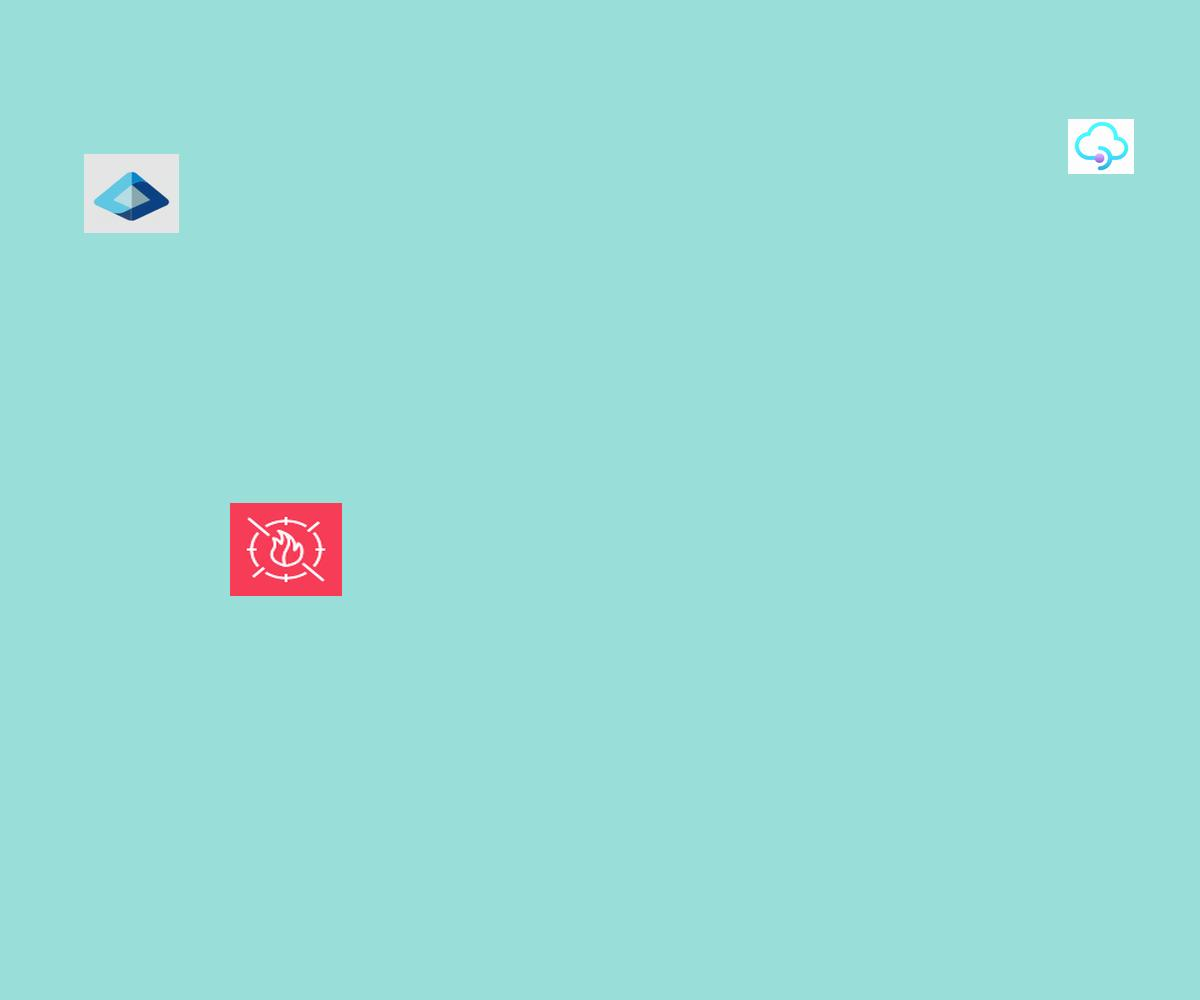AWS-WAF: (230, 503, 342, 596)
Azure_api_gateway: (1068, 119, 1134, 174)
Azure_microsoft_entra: (84, 154, 179, 233)
